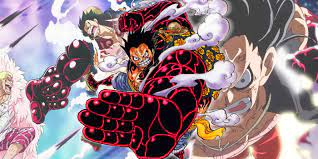Luffy: (210, 40, 276, 117), (123, 31, 162, 70), (77, 7, 107, 39)
